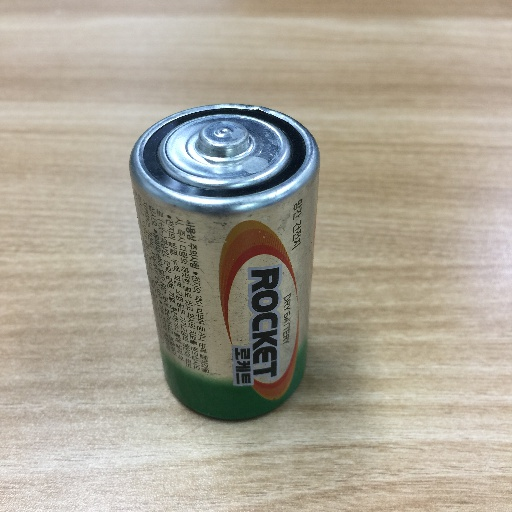Battery_0: (116, 94, 329, 431)
